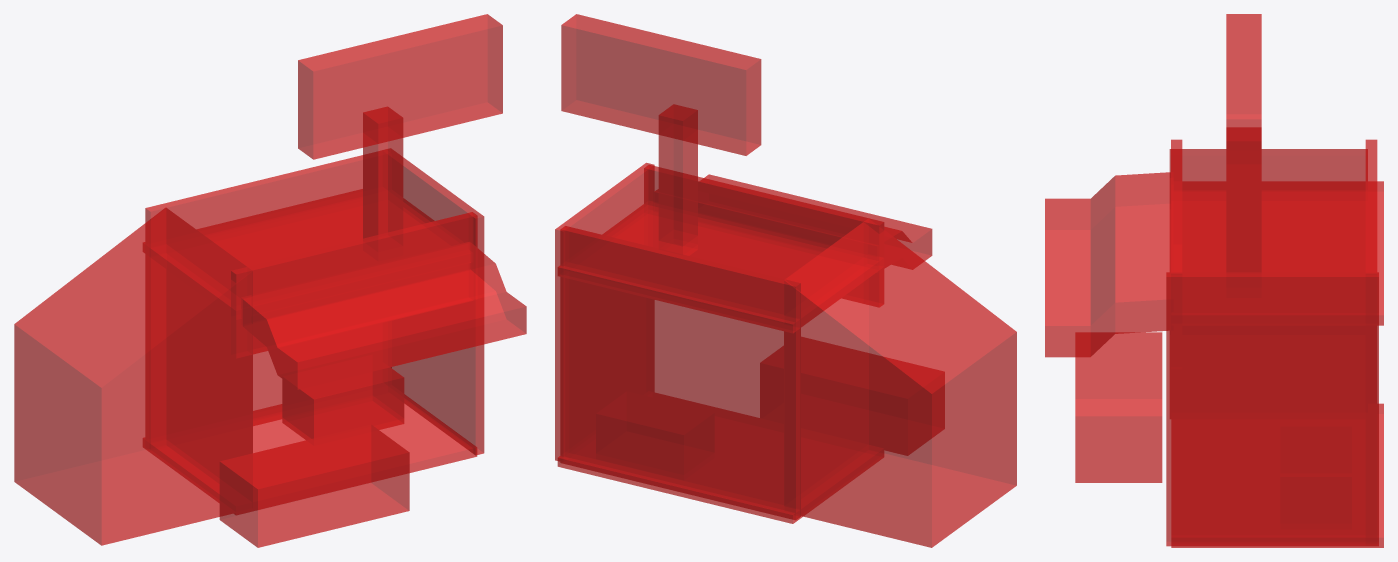
Rendered from SM_Bld_Shop_02_Collision.fbx.
3 views of the same model, side by side, from view 1: azimuth 30°, elevation 25°; view 2: azimuth 150°, elevation 25°; view 3: azimuth 270°, elevation 25° (orthographic). The views are drawn at different scales.
Visible parts, largest first — view 1: SM_Bld_Shop_02_Collision; view 2: SM_Bld_Shop_02_Collision; view 3: SM_Bld_Shop_02_Collision.
Part boxes in pixels (x1,y1,x2,y2): SM_Bld_Shop_02_Collision: (14, 14, 526, 547); SM_Bld_Shop_02_Collision: (555, 14, 1016, 547); SM_Bld_Shop_02_Collision: (1045, 14, 1383, 547).
Size of the model in its own units: 742 by 667 by 449.
